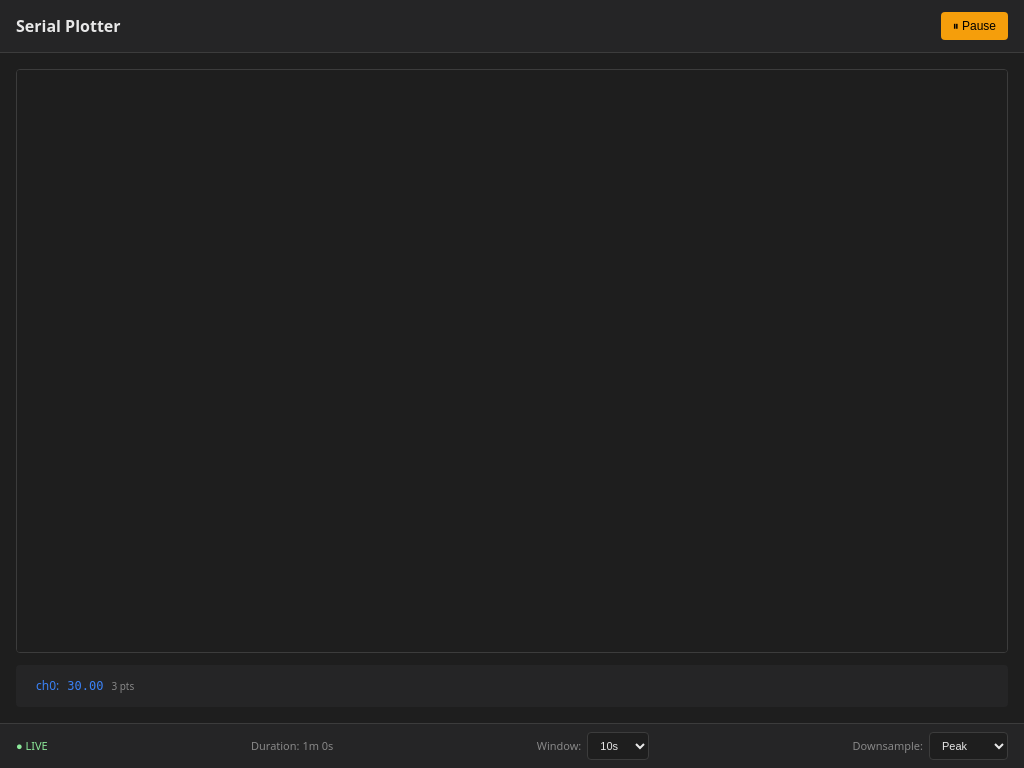
Test case: PlotterWindow › shows the paused status when the pause button is clicked
What coordinates should you click on to do the following:
click the button "⏸ Pause"
I would click on:
 (974, 26)
Its box is [941,12,1008,40].
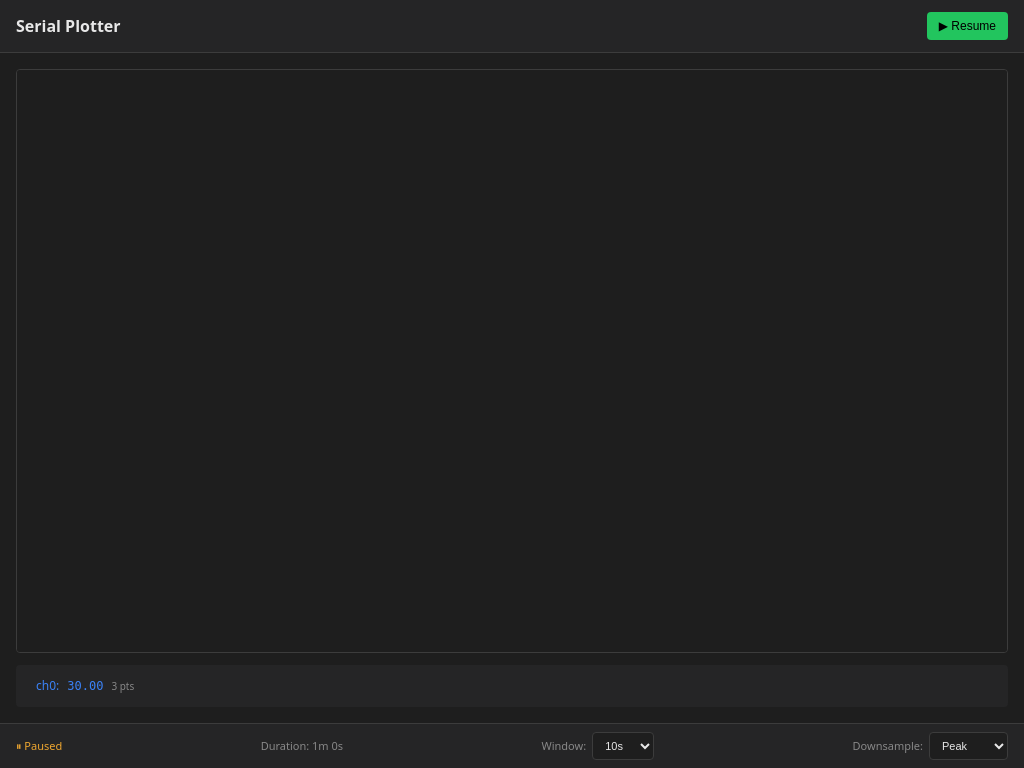
Now the text "⏸ Paused" is shown, box [16,738,62,754]
